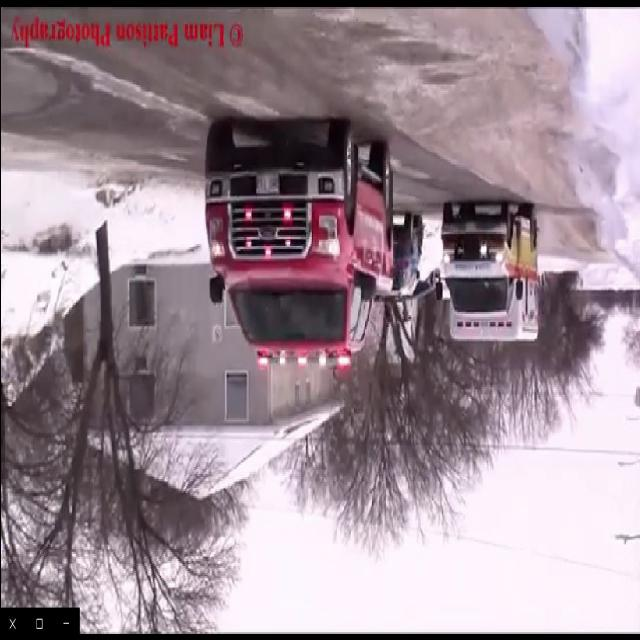emergency: (198, 110, 394, 368), (429, 191, 542, 346)
